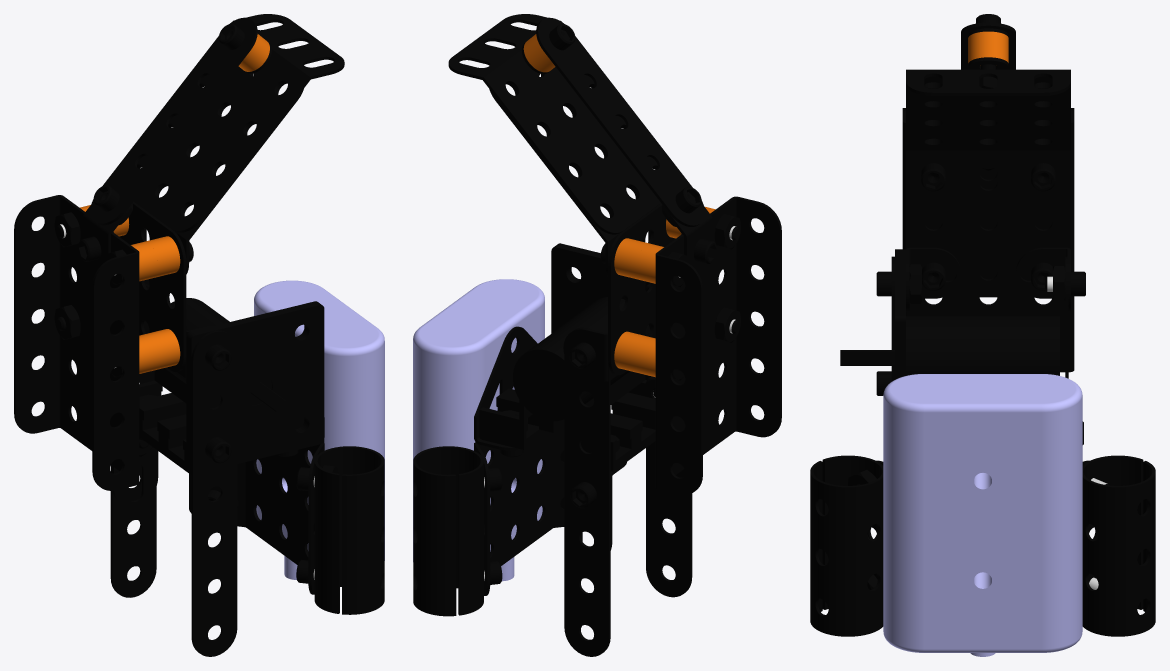
3 renders of one model, left to right at view 1: azimuth 30°, elevation 25°; view 2: azimuth 150°, elevation 25°; view 3: azimuth 270°, elevation 25°, orthographic. The views are drawn at different scales.
Parts seen in each view (by area): view 1: matte zinc, polished nickel, matte zinc-4, cast iron, white-pw-mt11050, white-pw-mt11050-2, polished bronze; view 2: matte zinc, polished nickel, matte zinc-4, cast iron, white-pw-mt11050, white-pw-mt11050-2; view 3: white-pw-mt11050, matte zinc, matte zinc-4, polished nickel, cast iron, white-pw-mt11050-2, polished bronze.
Part boxes in pixels (x1,y1,x2,y2): matte zinc: [54, 17, 384, 656]; polished nickel: [14, 195, 186, 490]; matte zinc-4: [134, 14, 344, 594]; cast iron: [139, 298, 324, 474]; white-pw-mt11050: [254, 280, 384, 579]; white-pw-mt11050-2: [80, 34, 269, 373]; polished bronze: [250, 382, 288, 413]; matte zinc: [413, 17, 740, 656]; polished nickel: [608, 196, 781, 494]; matte zinc-4: [448, 14, 660, 595]; cast iron: [479, 243, 655, 471]; white-pw-mt11050: [413, 279, 544, 581]; white-pw-mt11050-2: [523, 34, 715, 377]; white-pw-mt11050: [883, 374, 1082, 656]; matte zinc: [810, 14, 1155, 636]; matte zinc-4: [867, 69, 1098, 578]; polished nickel: [902, 108, 1074, 372]; cast iron: [895, 249, 1059, 379]; white-pw-mt11050-2: [968, 31, 1008, 62]; polished bronze: [840, 350, 894, 365].
Bounding box in the file's own units: 8.49 × 16.01 × 7.99.
